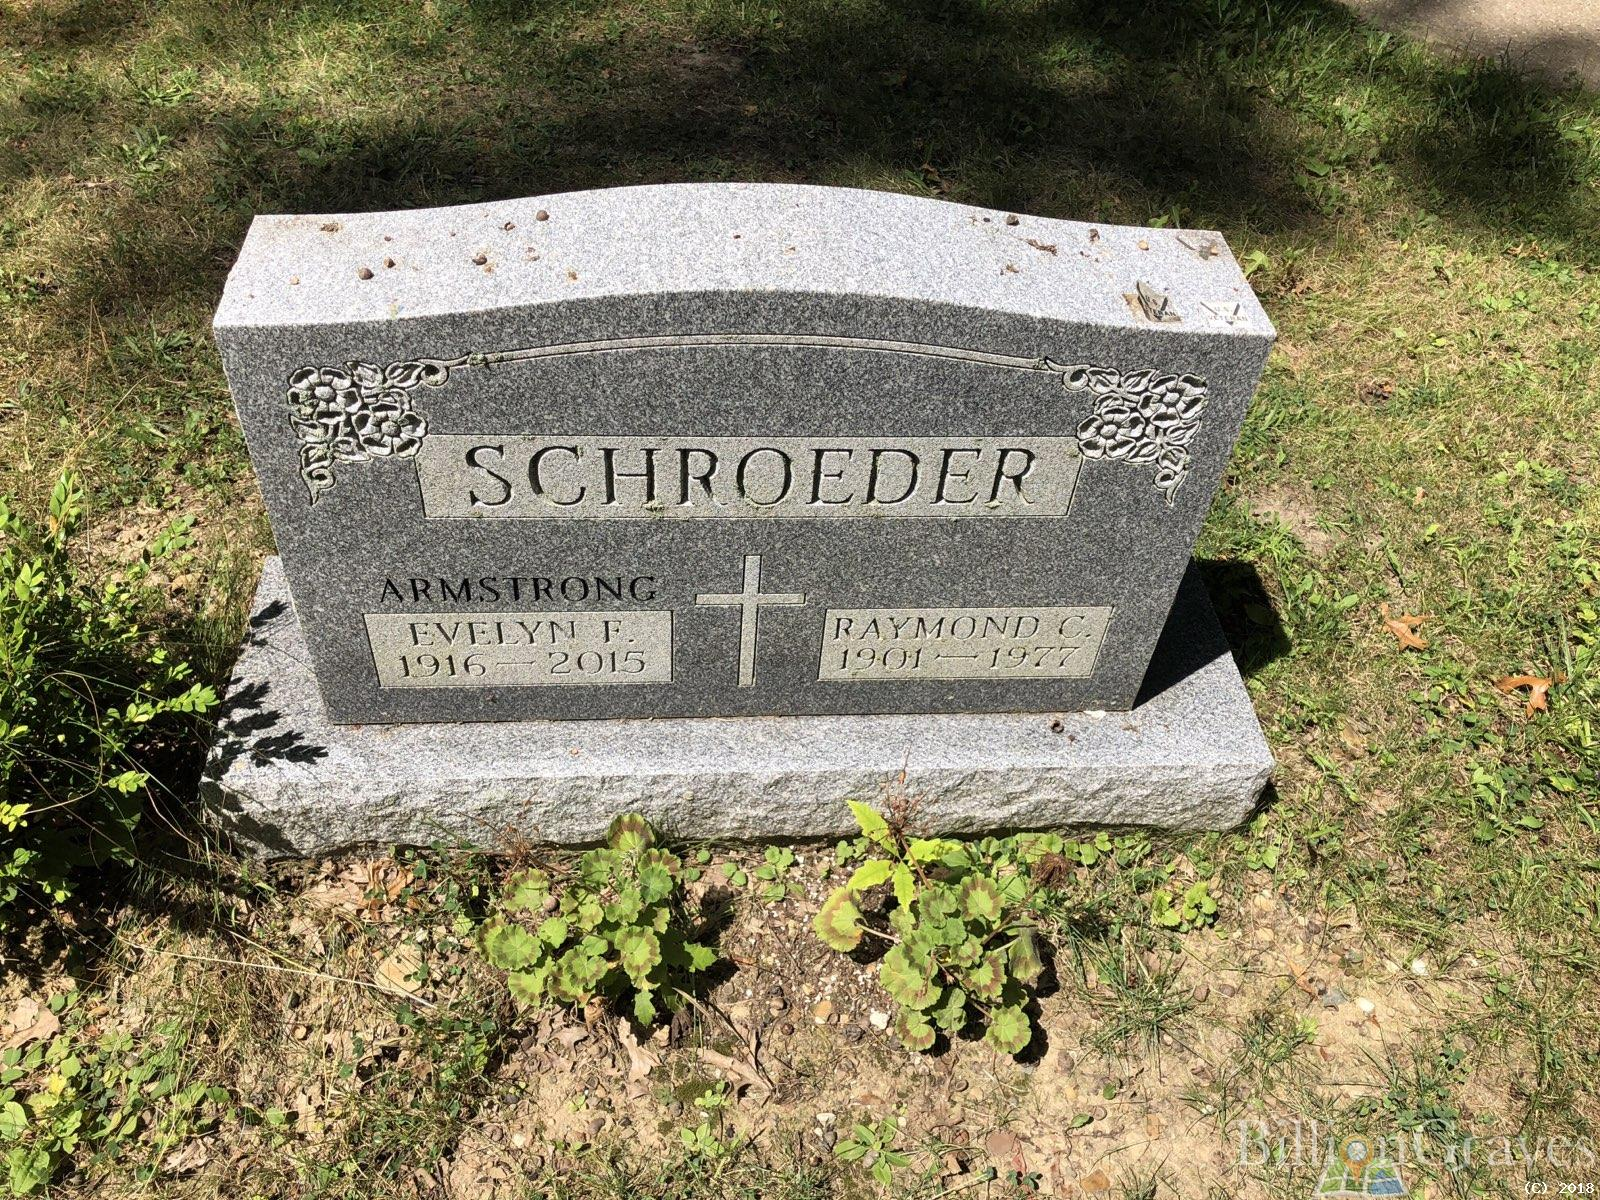upright: (199, 194, 1275, 850)
